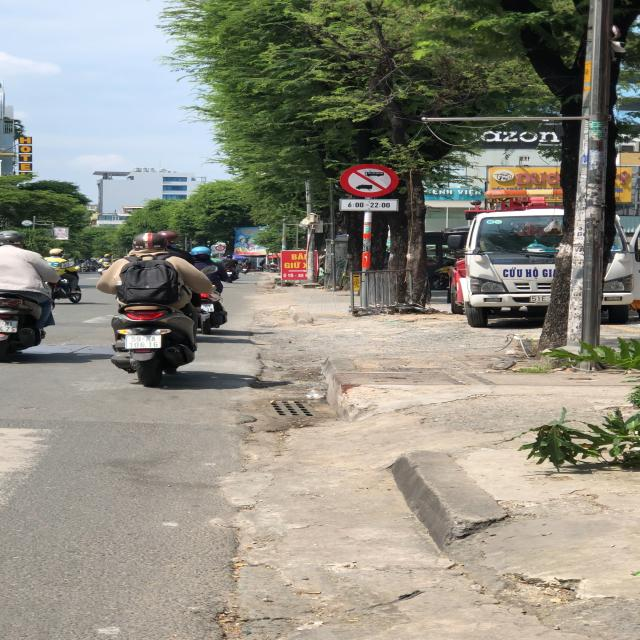Bien bao cam xe oto khach va xe oto tai: (334, 162, 404, 197)
